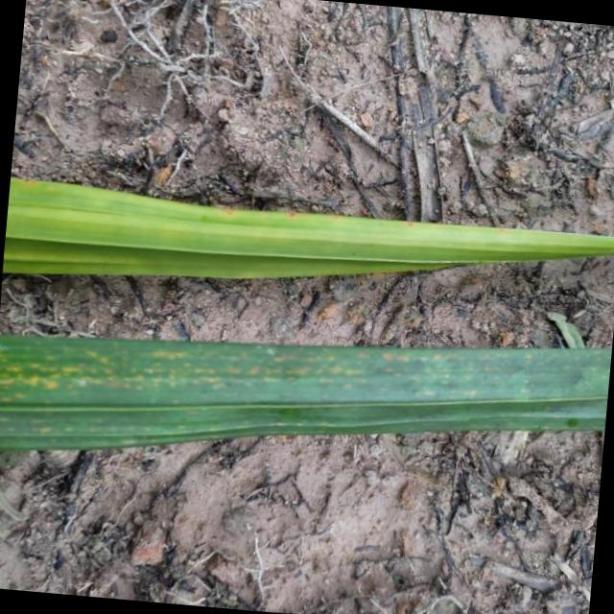nitrogen: (0, 336, 614, 451), (5, 171, 614, 278)
